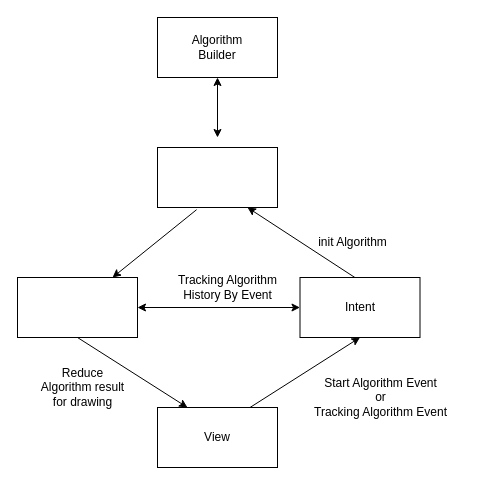
This 477x485 diagram has some shape labels left out. The shapes that lost their labels are listed below. From the top down, each one's centre as x and y in pixels, then its label:
At (217,177): "Algorithm Interface".
At (77,307): "Model".
